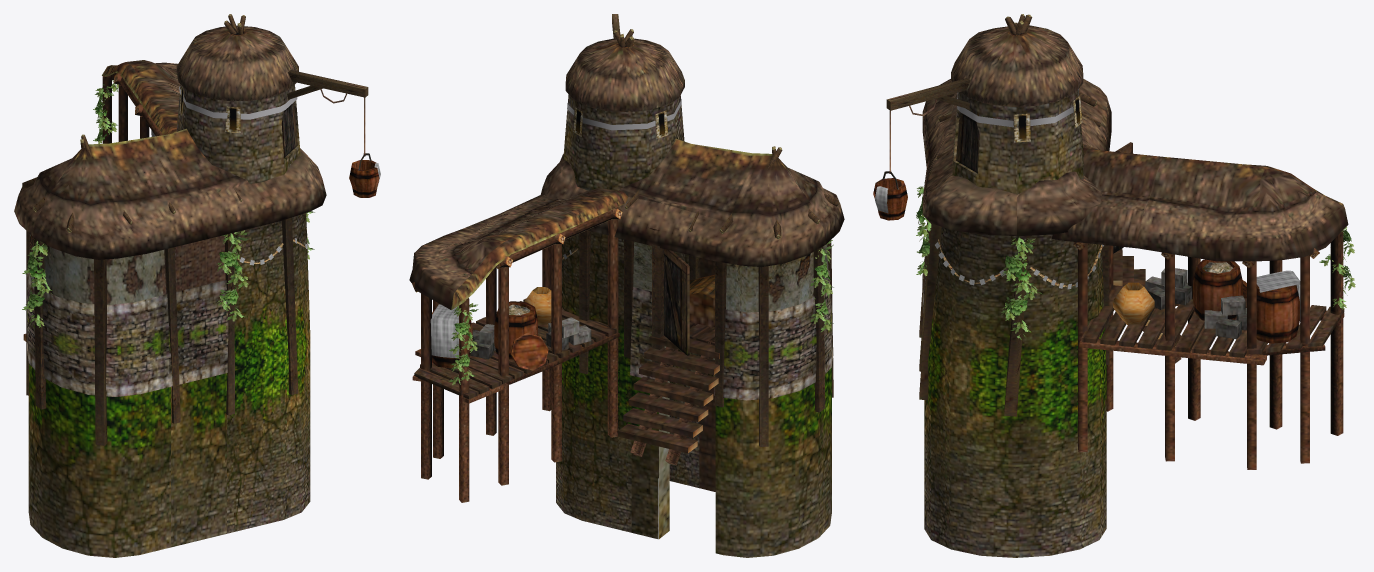
Rendered from brit_storehouse.glb.
3 renders of one model, left to right at view 1: azimuth 30°, elevation 25°; view 2: azimuth 150°, elevation 25°; view 3: azimuth 270°, elevation 25°, orthographic. The views are drawn at different scales.
Parts seen in each view (by area): view 1: brit_storehouse_part0, brit_storehouse_part2; view 2: brit_storehouse_part0, brit_storehouse_part2; view 3: brit_storehouse_part0, brit_storehouse_part2.
Part boxes in pixels (x1,y1,x2,y2): brit_storehouse_part0: (14, 14, 380, 557); brit_storehouse_part2: (22, 80, 314, 327); brit_storehouse_part0: (409, 14, 844, 557); brit_storehouse_part2: (448, 240, 833, 385); brit_storehouse_part0: (873, 14, 1348, 557); brit_storehouse_part2: (916, 182, 1355, 339).
Bounding box in the file's own units: 2.75 × 3.94 × 3.4.
Materials: 3 (3 with a texture image).
